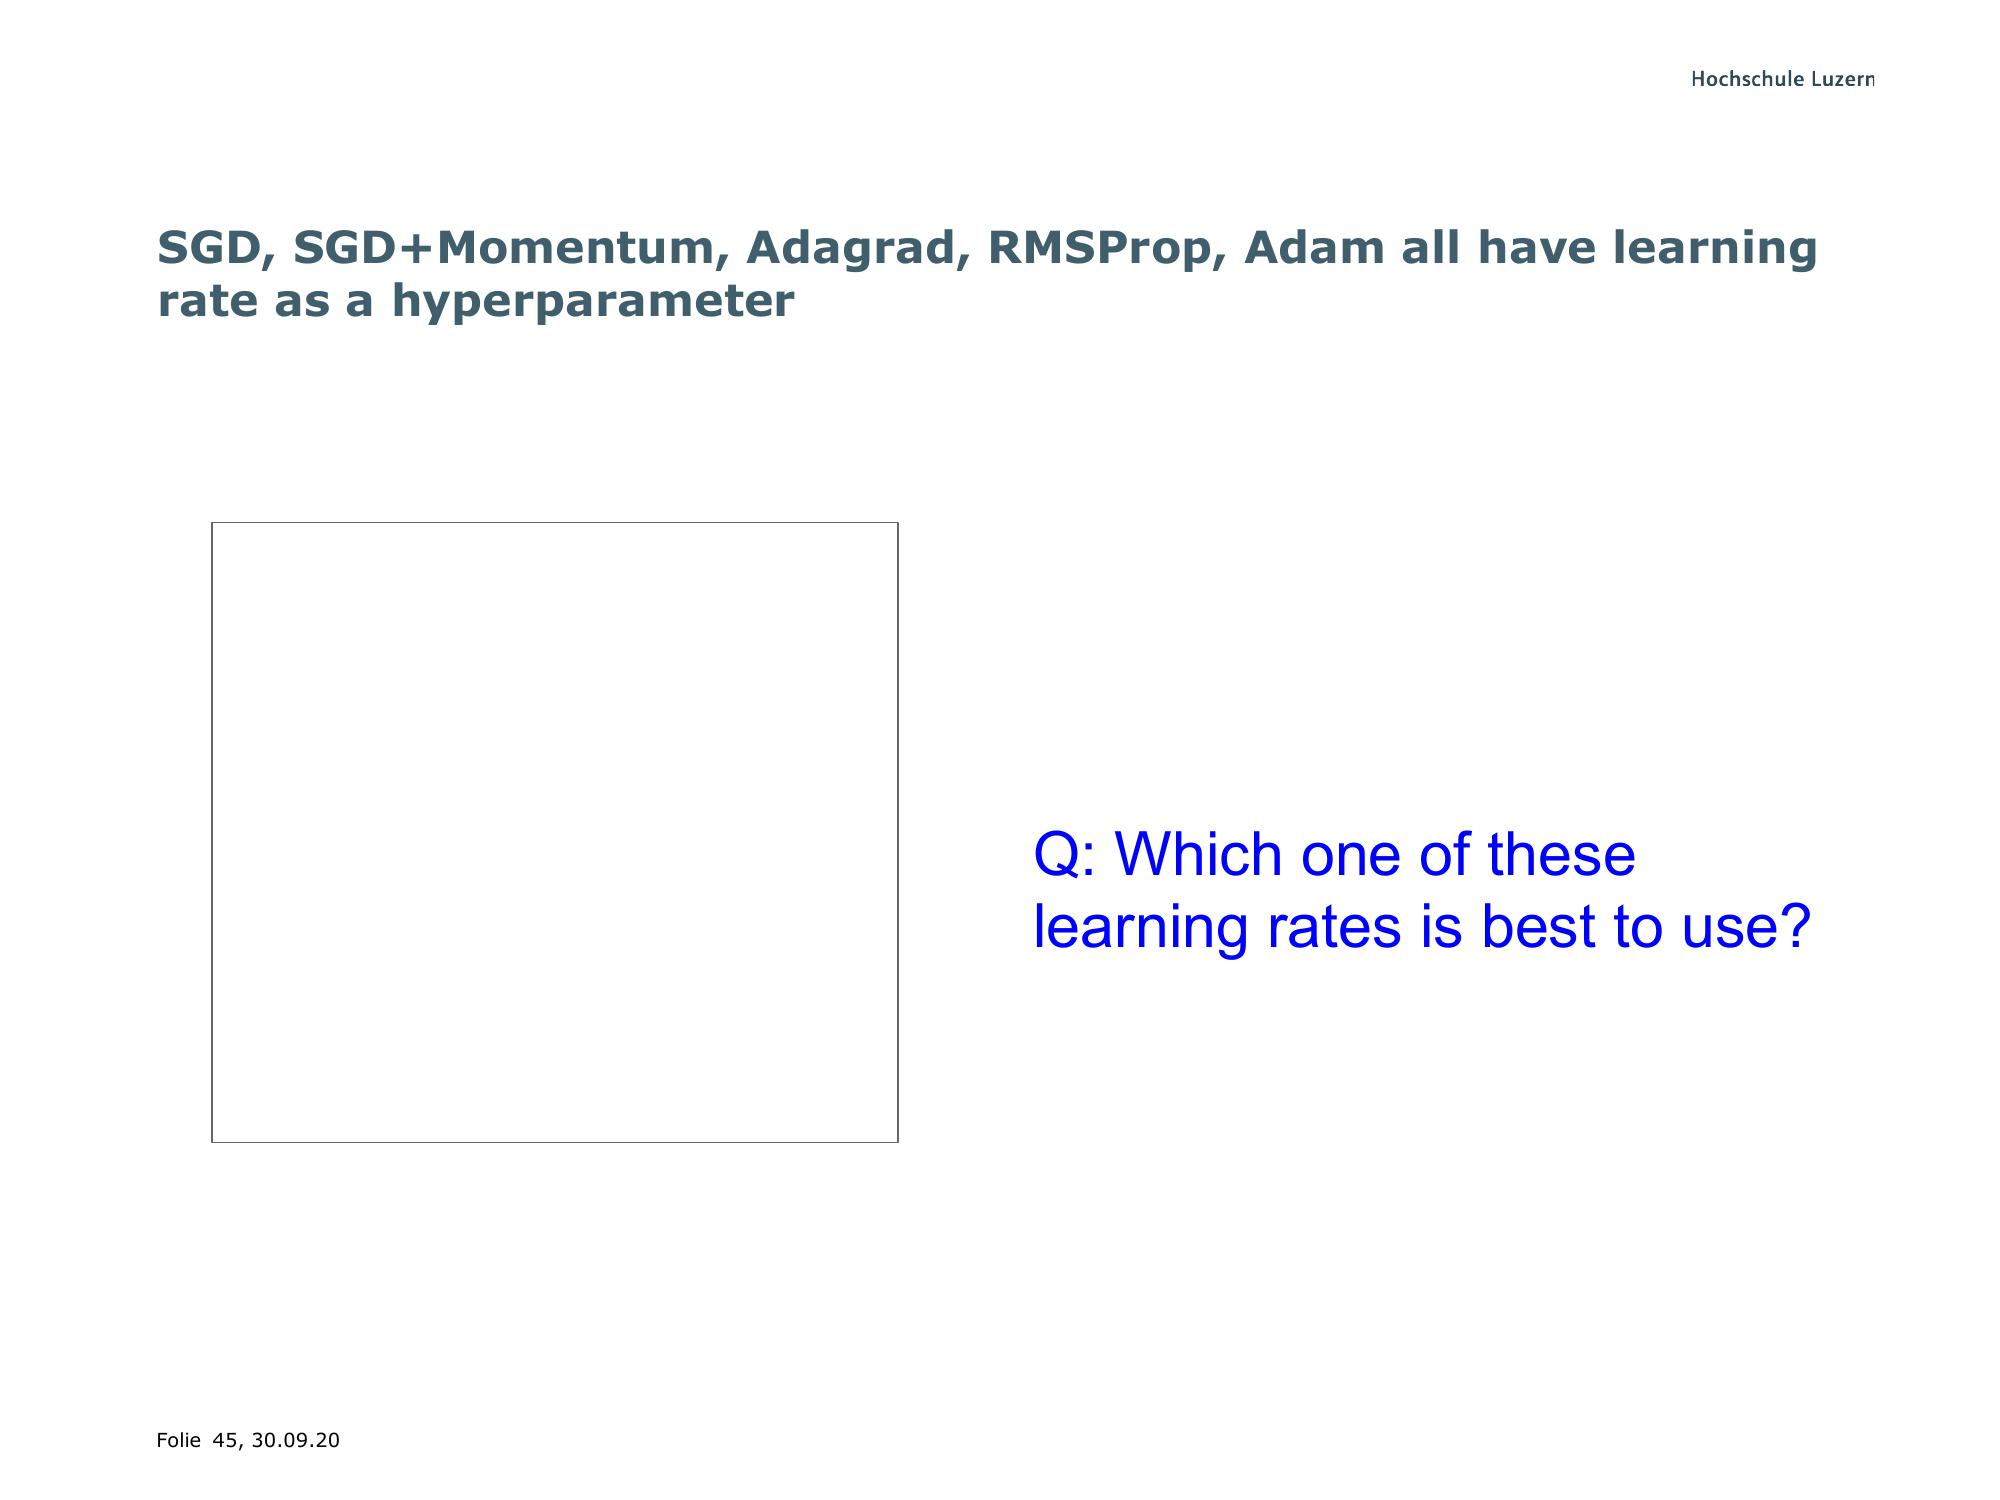Title: (146, 214, 1831, 331)
